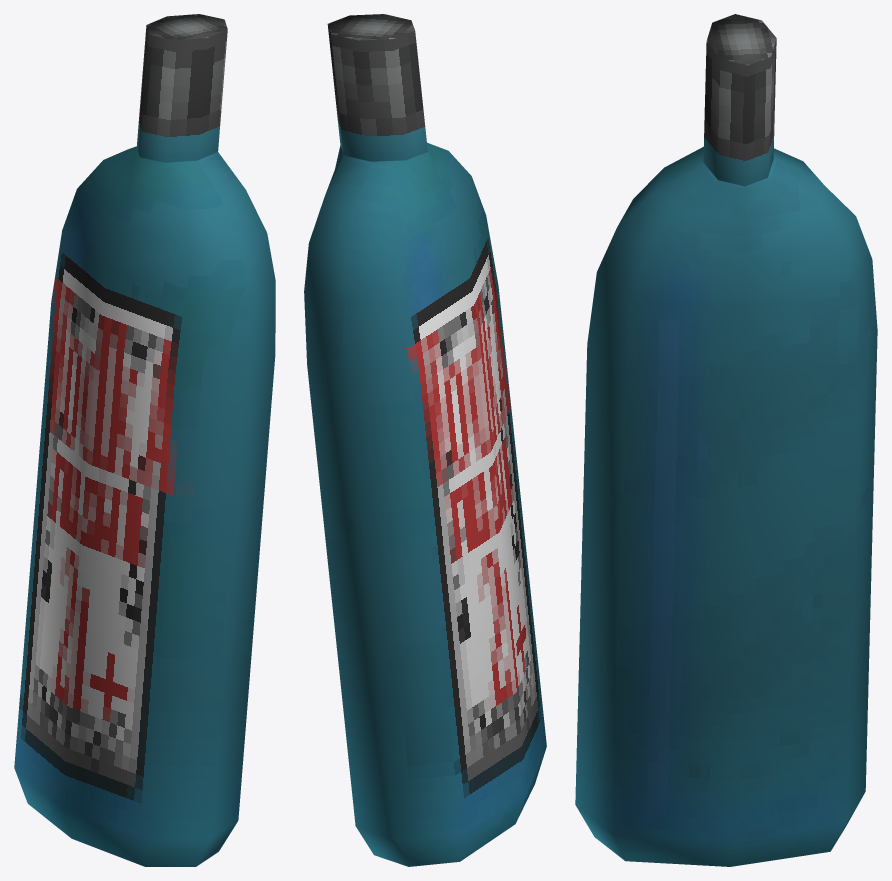
Rendered from H_AlcoholBottle.fbx.
3 views of the same model, side by side, from view 1: azimuth 30°, elevation 25°; view 2: azimuth 150°, elevation 25°; view 3: azimuth 270°, elevation 25° (orthographic). The views are drawn at different scales.
Parts seen in each view (by area): view 1: AlcoholBottle; view 2: AlcoholBottle; view 3: AlcoholBottle.
Part boxes in pixels (x1,y1,x2,y2): AlcoholBottle: (14, 14, 275, 866); AlcoholBottle: (304, 14, 546, 866); AlcoholBottle: (575, 14, 877, 866).
Bounding box in the file's own units: 12.72 × 51.68 × 16.84.
